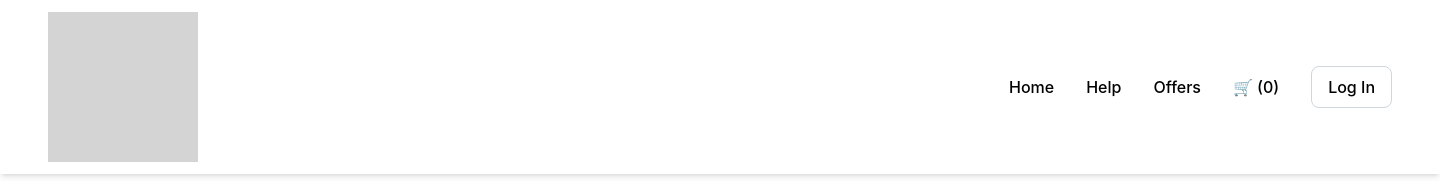
Test: login button toggles
Click the button "Log In" at (1352, 87), box [1311, 66, 1392, 108]
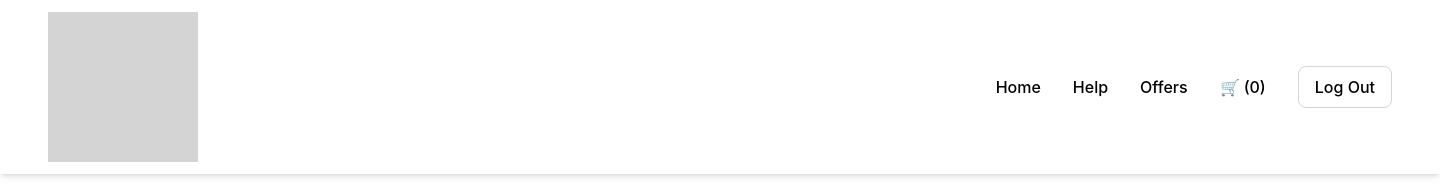
Expected: the button "Log Out" is shown, [1298, 66, 1392, 108]
